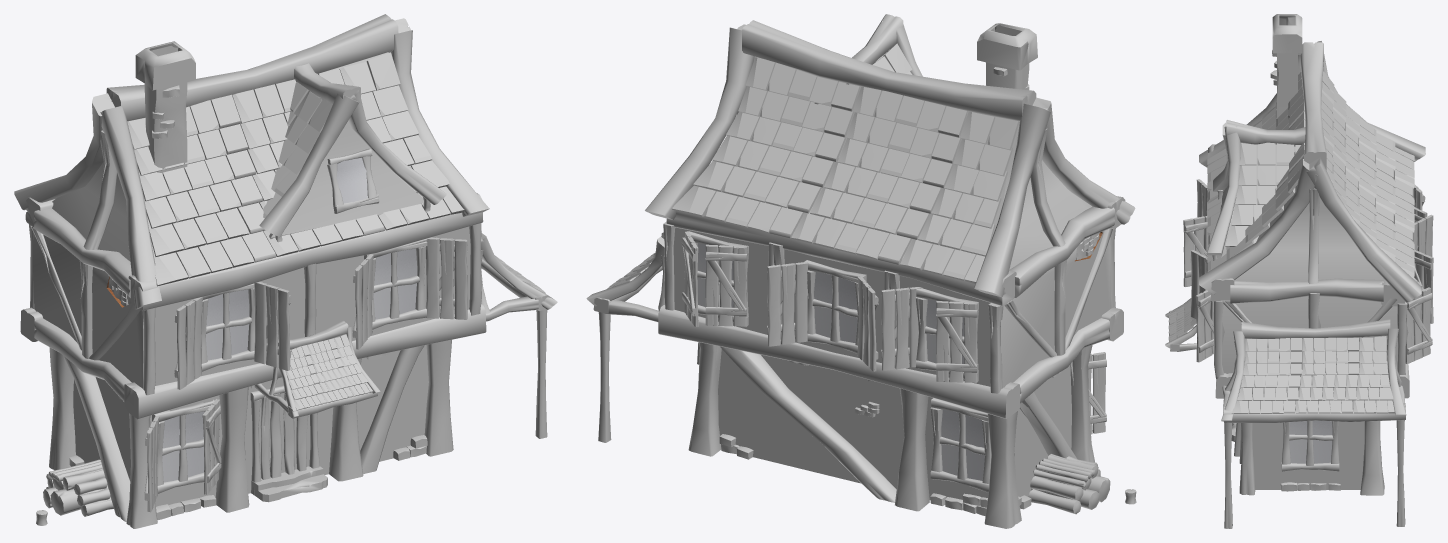
Rendered from CasaUno.fbx.
3 renders of one model, left to right at view 1: azimuth 30°, elevation 25°; view 2: azimuth 150°, elevation 25°; view 3: azimuth 270°, elevation 25°, orthographic. The views are drawn at different scales.
Parts seen in each view (by area): view 1: Object060; view 2: Object060; view 3: Object060.
Boxes of the visible parts, x1,y1,x2,y2 form: Object060: (14,14,557,528); Object060: (586,14,1136,528); Object060: (1165,14,1433,528).
Bounding box in the file's own units: 3.64 × 3.21 × 2.11.
